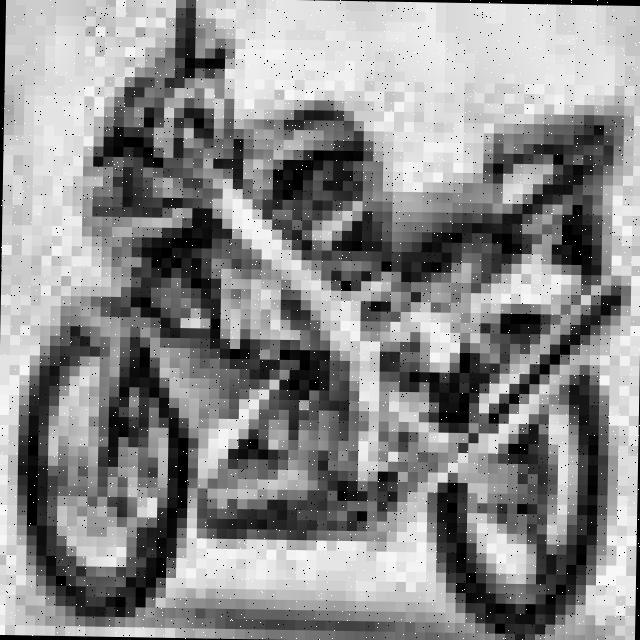mopeds: (6, 47, 635, 640)
